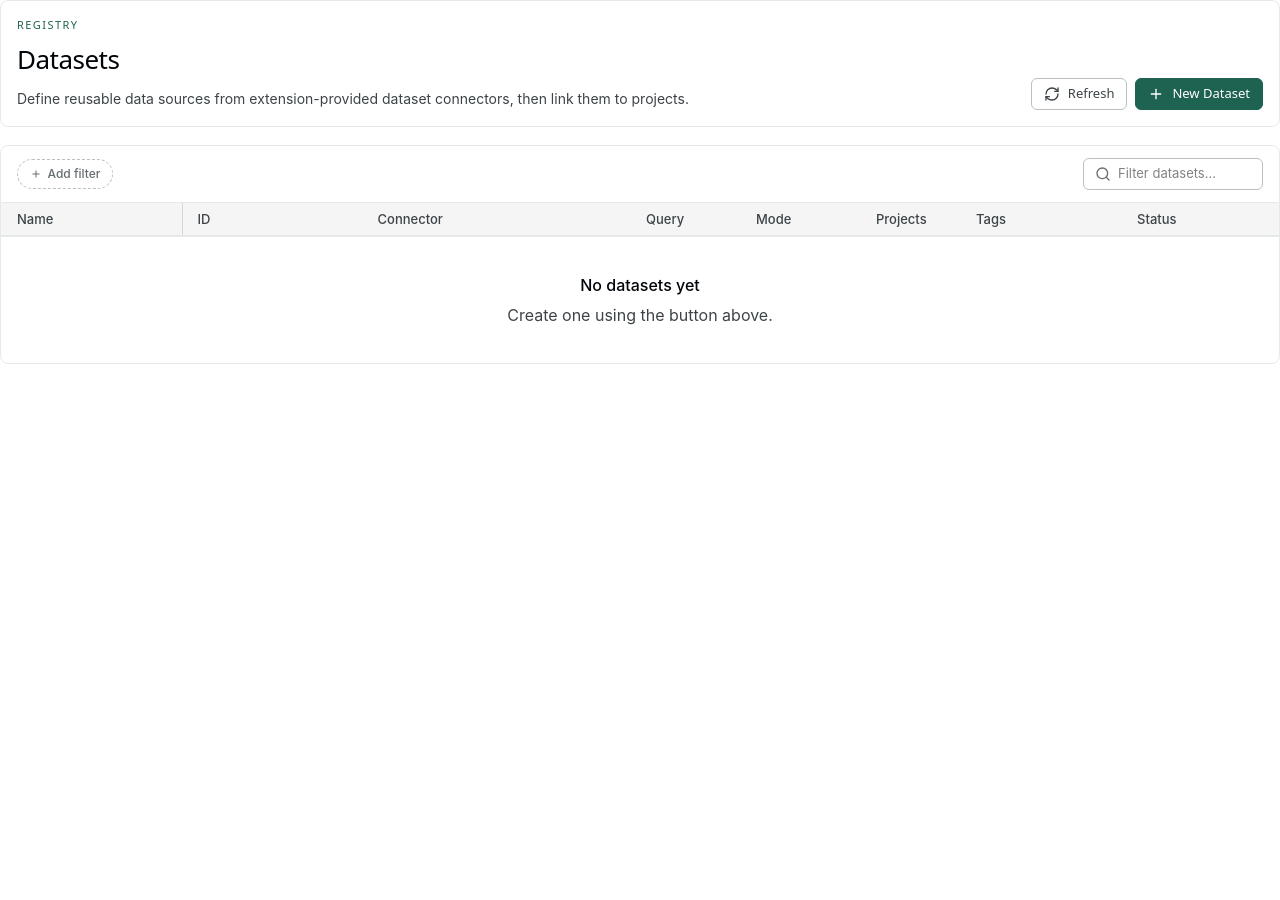
Test: RegistryDatasetsPage › shows a successful empty schema as an empty result rather than an introspection failure
Click the button "New Dataset" at (1199, 94), box [1135,78,1263,110]
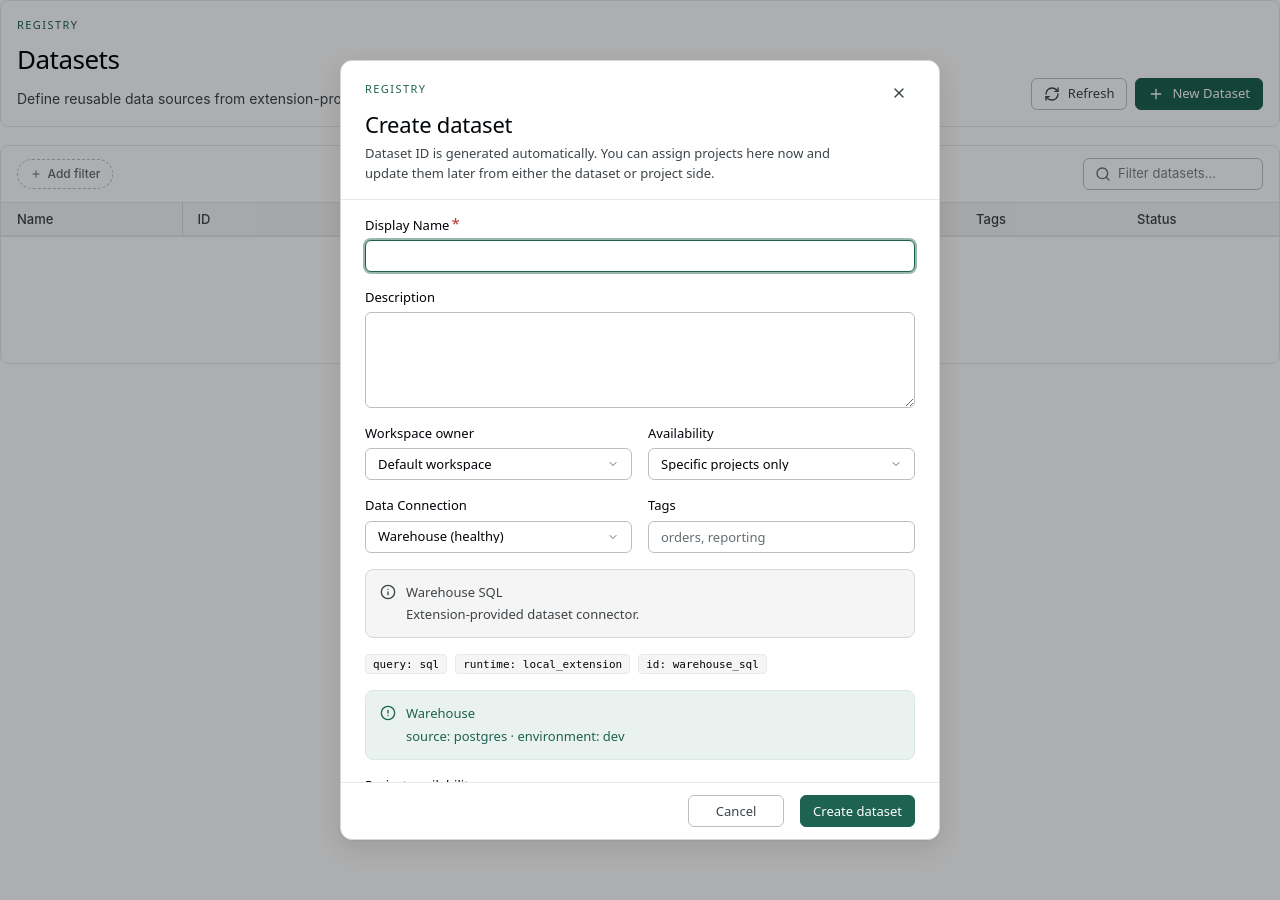
Click the dropdown named "Workspace owner" at (435, 464), box [365,448,632,480]
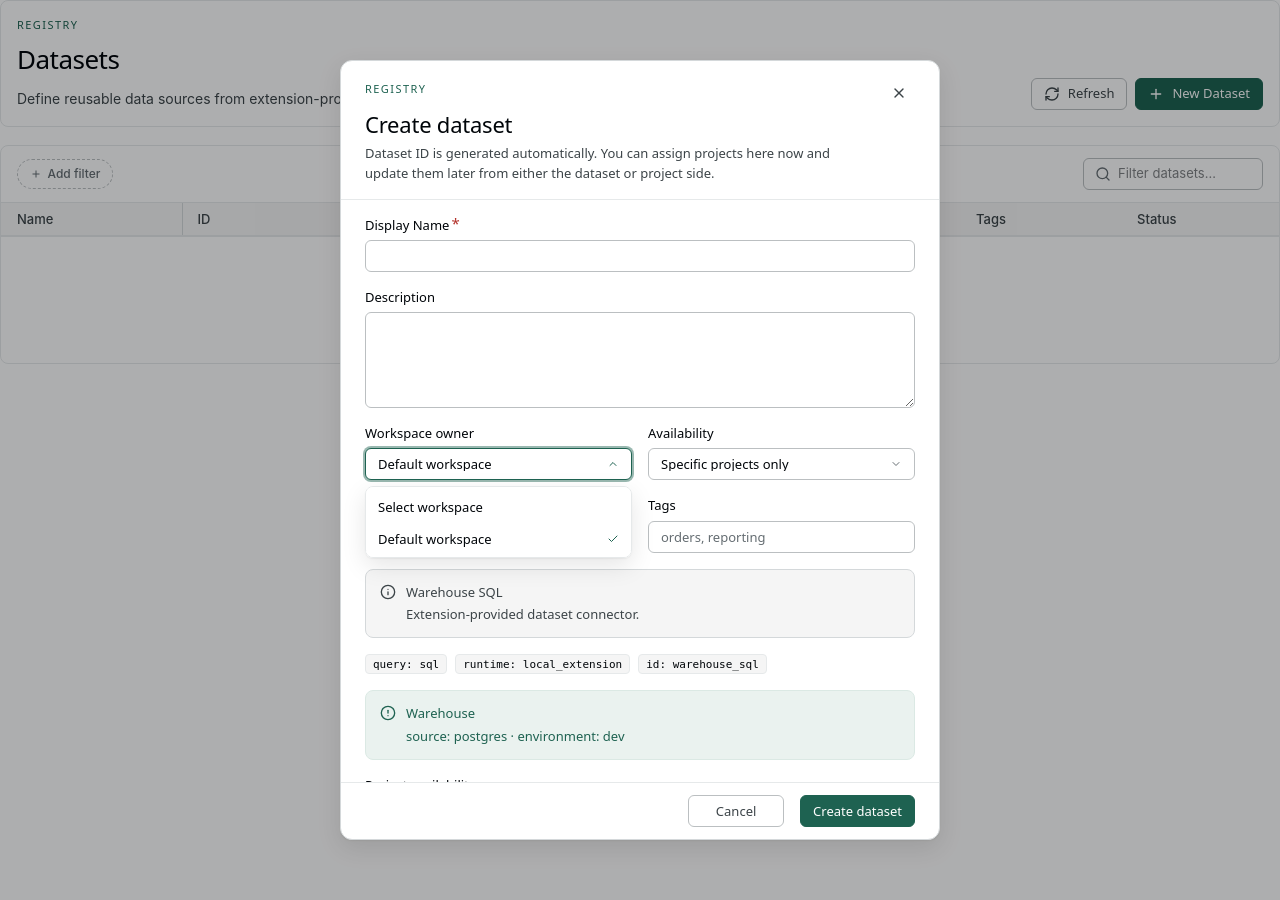
Click the option "Default workspace" at (498, 539), box [370,523,627,555]
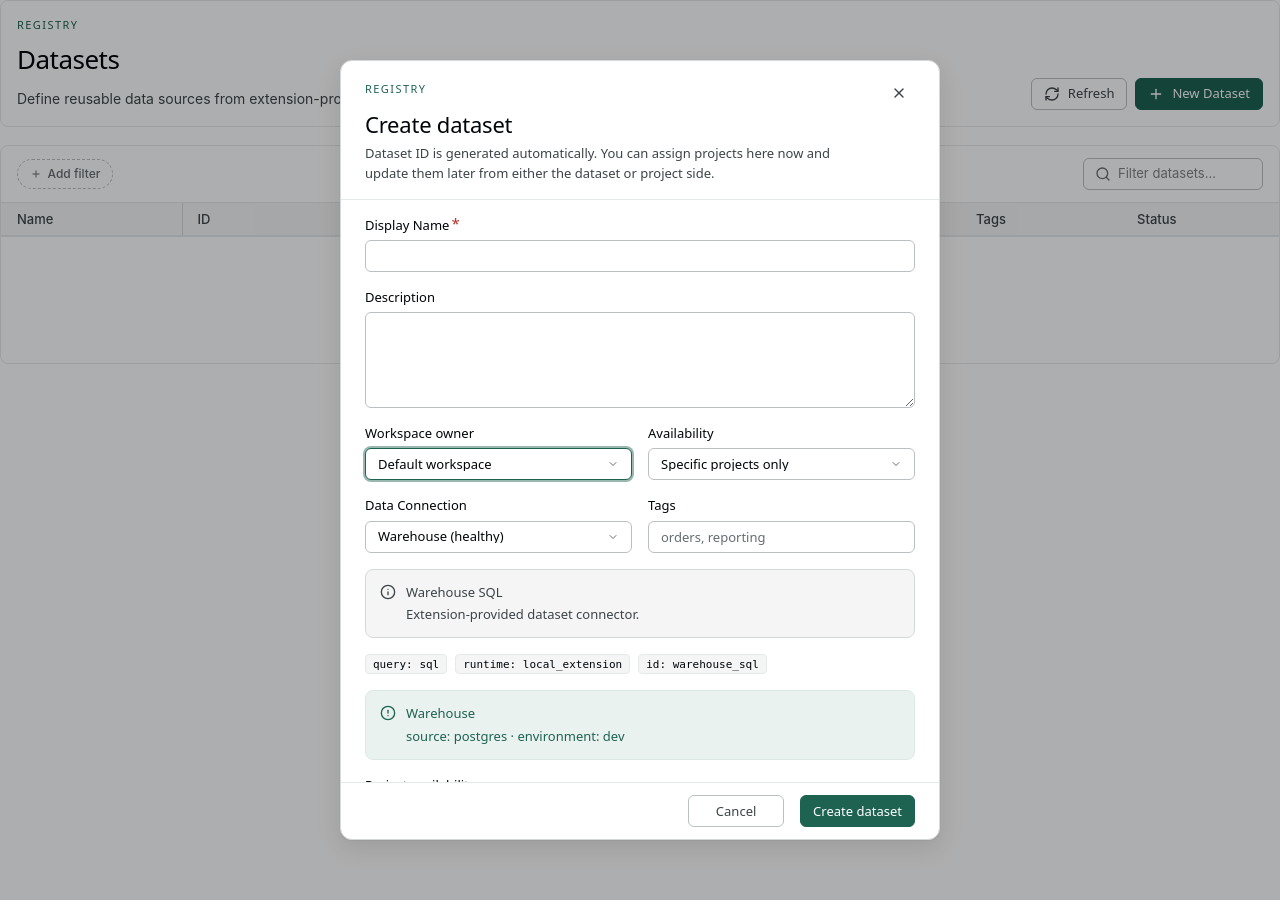
Click the dropdown named "Data Connection" at (498, 537), box [365,521,632,553]
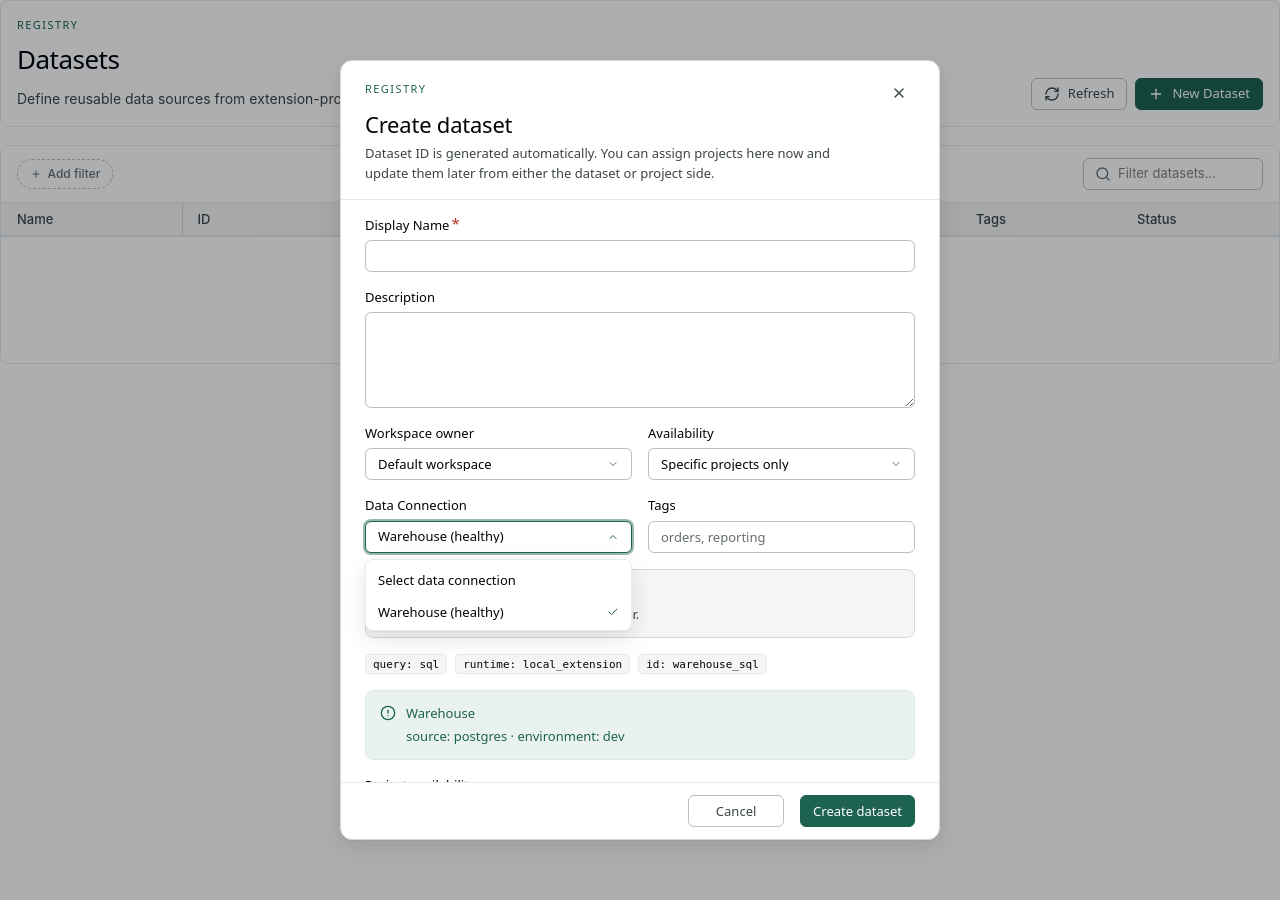
Click the option "Warehouse (healthy)" at (498, 612), box [370,596,627,628]
(page scrolled)
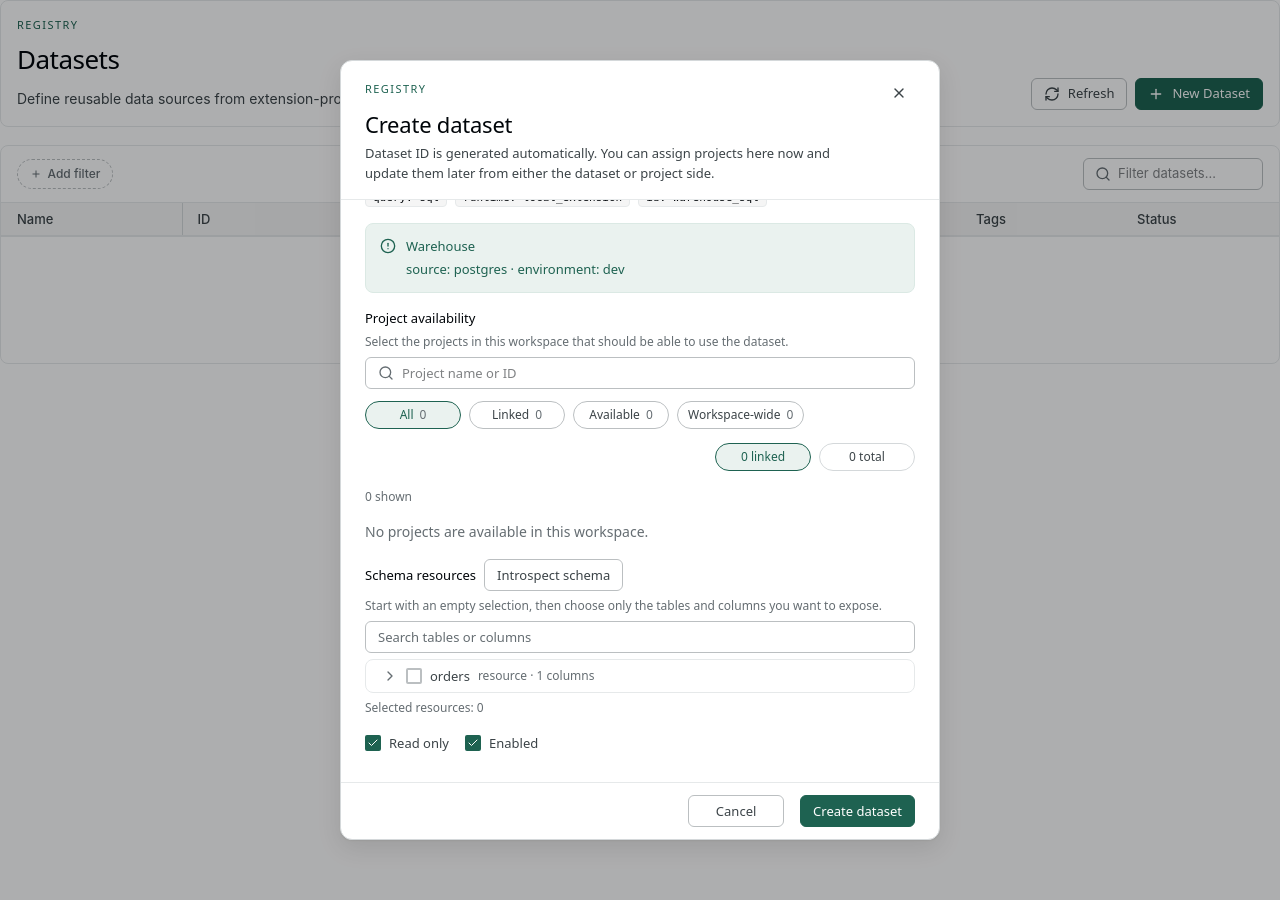
Click the button "Introspect schema" at (554, 575), box [484,559,623,591]
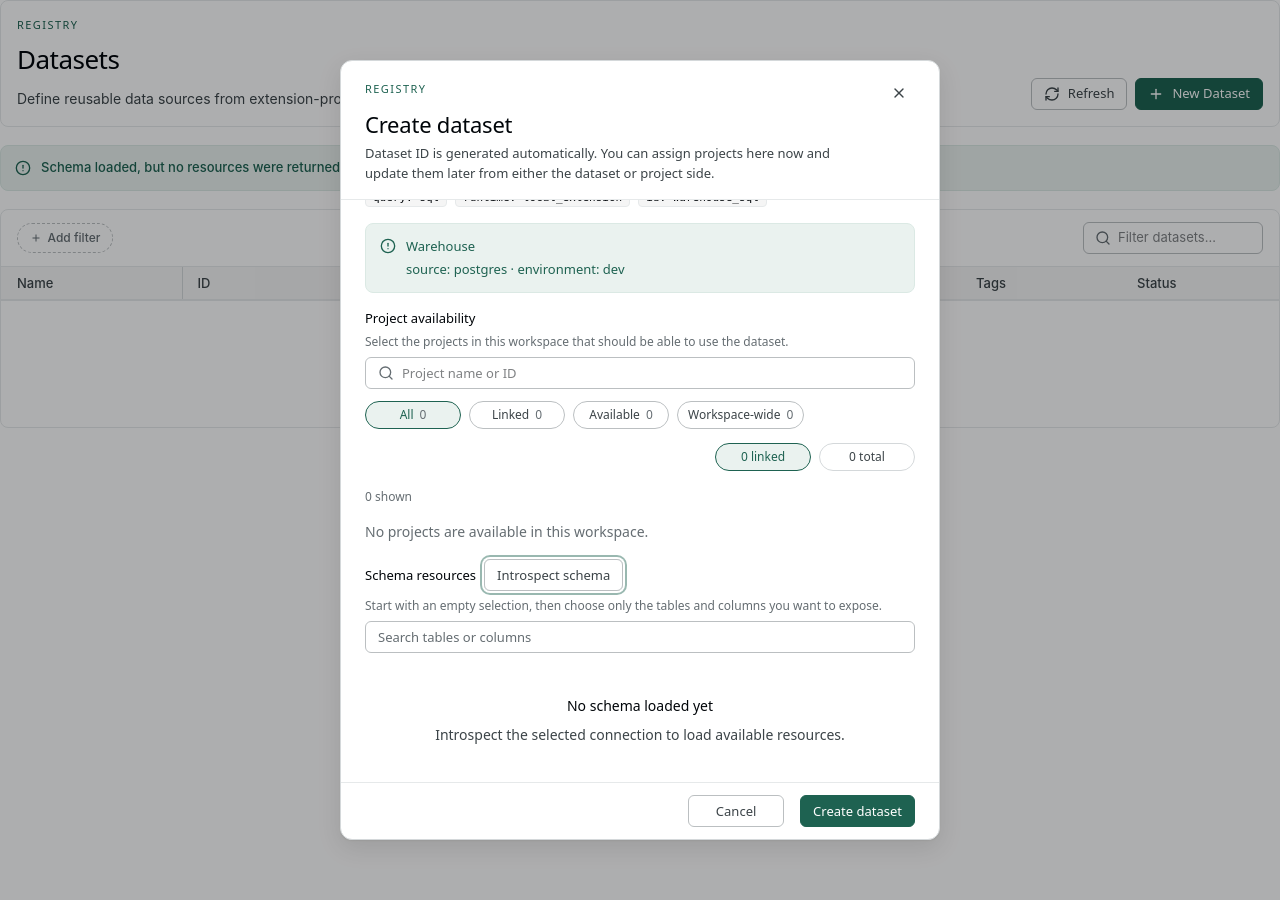
Expected: the text "Schema loaded, but no resources were returned." is shown, [41,159,344,175]
Expected: the text "No schema loaded yet" is shown, [567,695,713,718]
